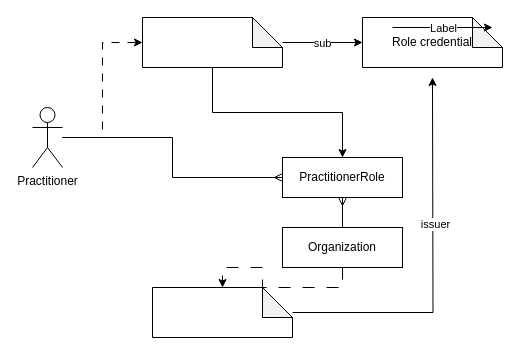
Image size: 520x355. Some labels were removed from this diagram. Each missing label, with the centre of its shape:
"Ura Credential" belongs at point 222,312.
"Uzi Credential" belongs at point 212,42.
